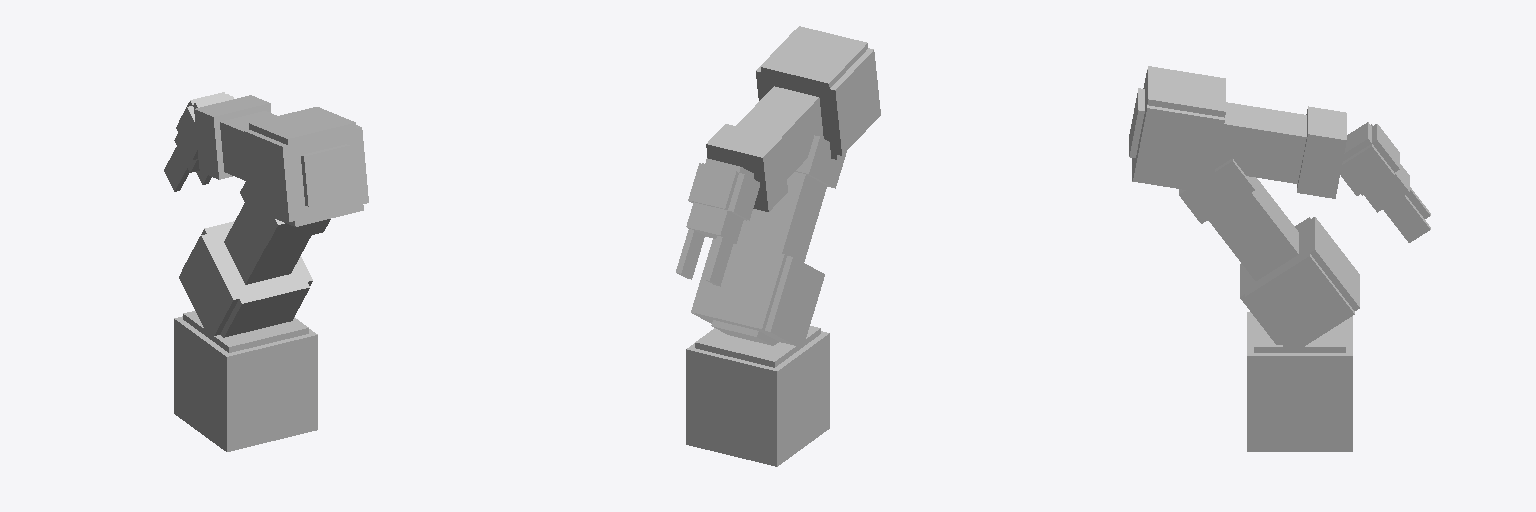
File: arm_basic.obj
The picture shows the model from 3 angles: view 1: azimuth 30°, elevation 25°; view 2: azimuth 150°, elevation 25°; view 3: azimuth 270°, elevation 25°; orthographic projection.
Parts seen in each view (by area): view 1: arm2, base, arm1, hand, claw; view 2: arm2, base, arm1, hand, claw; view 3: arm2, arm1, base, hand, claw.
Boxes of the visible parts, <box> form: arm2: <box>194,95,368,226</box>; base: <box>174,311,317,451</box>; arm1: <box>179,178,330,339</box>; hand: <box>174,92,233,172</box>; claw: <box>164,140,211,191</box>; arm2: <box>706,26,880,211</box>; base: <box>686,326,829,466</box>; arm1: <box>691,135,846,347</box>; hand: <box>686,158,759,243</box>; claw: <box>676,225,736,286</box>; arm2: <box>1129,66,1346,198</box>; arm1: <box>1179,158,1359,346</box>; base: <box>1247,312,1352,451</box>; hand: <box>1340,122,1409,212</box>; claw: <box>1375,186,1430,242</box>.
Bounding box in the file's own units: 1 × 3.63 × 2.86.